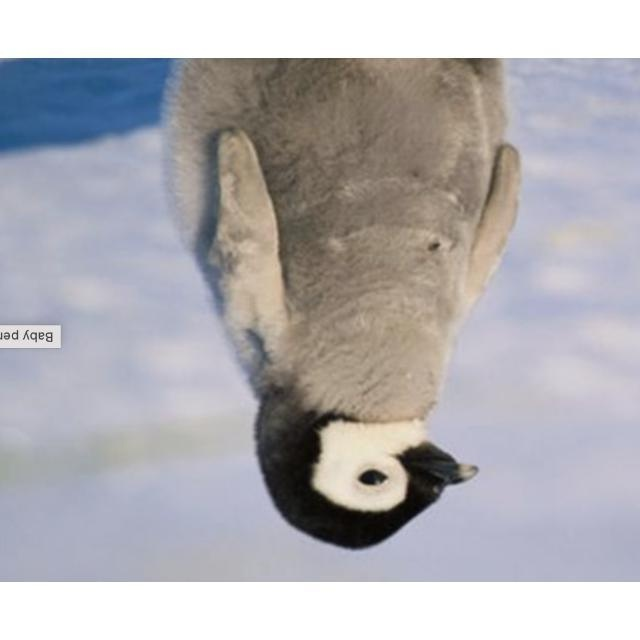penguin: (162, 60, 522, 549)
